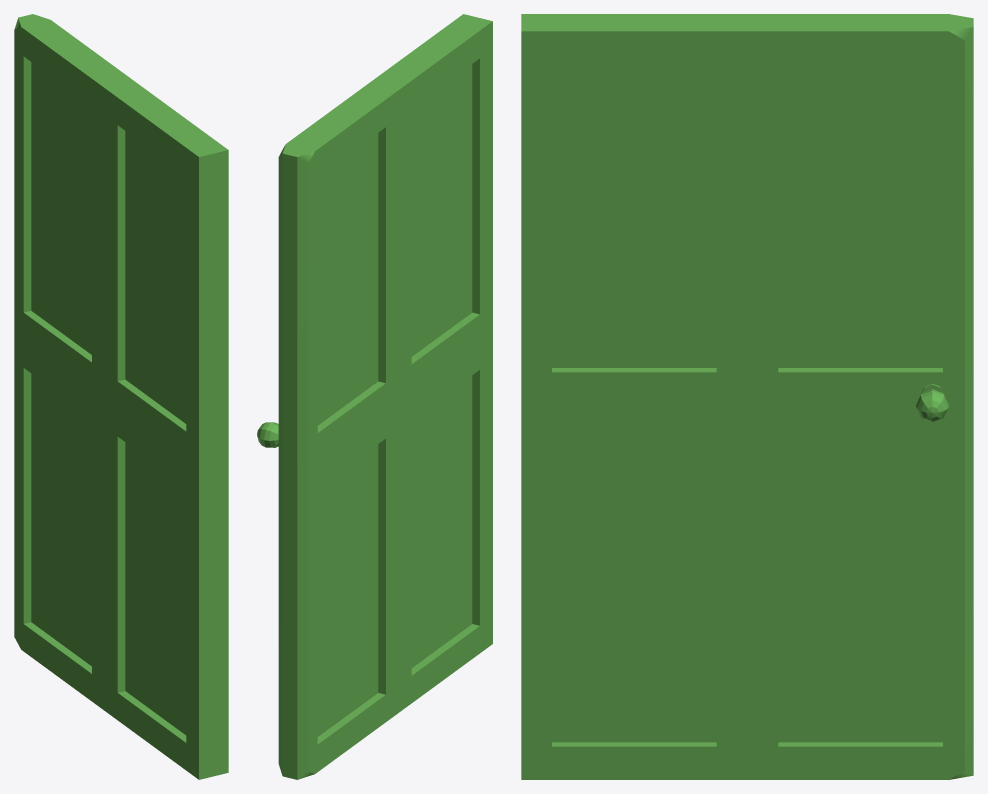
The model's file is door.fbx.
3 renders of one model, left to right at view 1: azimuth 30°, elevation 25°; view 2: azimuth 150°, elevation 25°; view 3: azimuth 270°, elevation 25°, orthographic. The views are drawn at different scales.
Visible parts, largest first — view 1: Door3; view 2: Door3; view 3: Door3.
Part boxes in pixels (x1,y1,x2,y2): Door3: (14,14,228,779); Door3: (257,14,492,779); Door3: (521,14,973,779).
Bounding box in the file's own units: 26.31 × 248 × 136.
